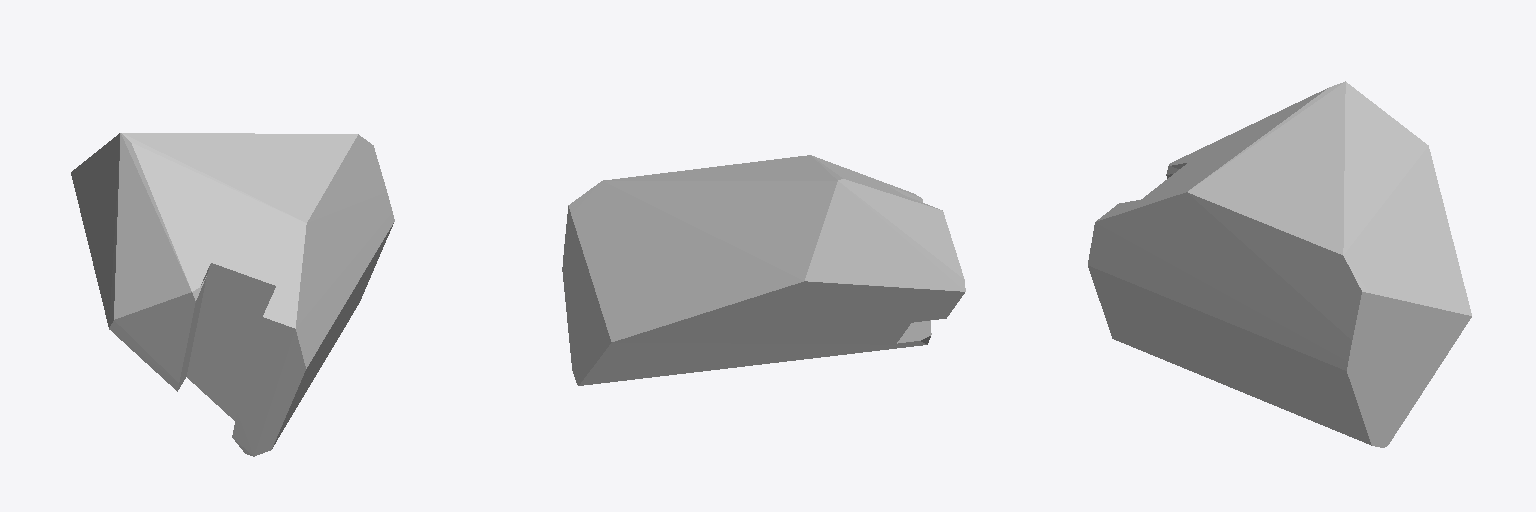
Rendered from li-fang-ti-.001_cell.004.obj.
3 views of the same model, side by side, from view 1: azimuth 30°, elevation 25°; view 2: azimuth 150°, elevation 25°; view 3: azimuth 270°, elevation 25° (orthographic).
Parts seen in each view (by area): view 1: 立方体.001_cell.004; view 2: 立方体.001_cell.004; view 3: 立方体.001_cell.004.
Part boxes in pixels (x1,y1,x2,y2): 立方体.001_cell.004: (71,133,394,456); 立方体.001_cell.004: (562,155,965,385); 立方体.001_cell.004: (1088,81,1471,447).
Size of the model in its own units: 0.3383 by 0.2335 by 0.327.